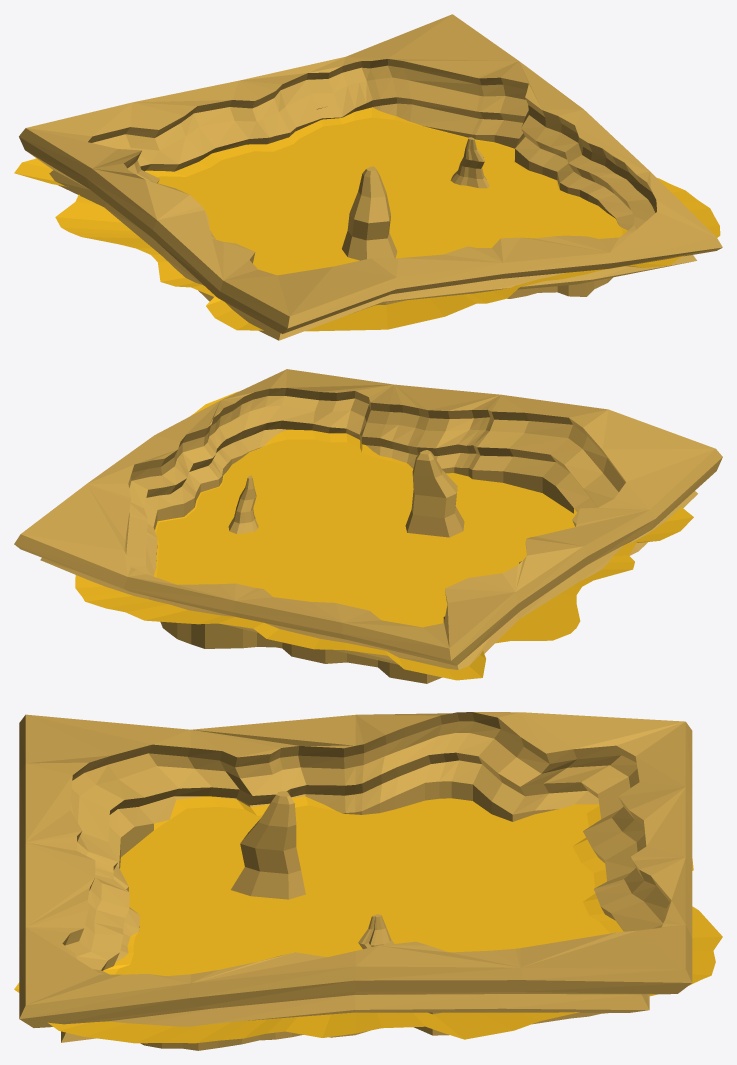
Rendered from TERRENO_1.FBX.
3 views of the same model, one above another, from view 1: azimuth 30°, elevation 25°; view 2: azimuth 150°, elevation 25°; view 3: azimuth 270°, elevation 25° (orthographic). The views are drawn at different scales.
Parts seen in each view (by area): view 1: pared, suelo; view 2: pared, suelo; view 3: pared, suelo.
Part boxes in pixels (box(x1,y1,x2,y2)): pared: box(19, 14, 722, 340); suelo: box(14, 107, 720, 331); pared: box(14, 369, 722, 683); suelo: box(75, 391, 693, 680); pared: box(19, 712, 692, 1050); suelo: box(14, 796, 722, 1043).
Bounding box in the file's own units: 185 × 42.11 × 180.
